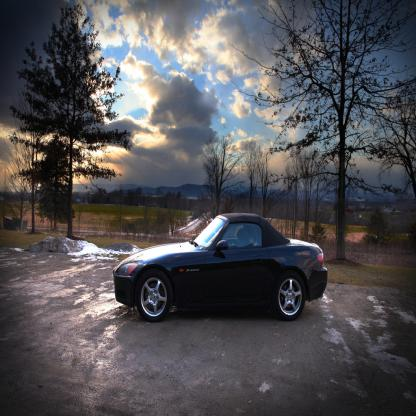Car: (113, 213, 328, 323)
